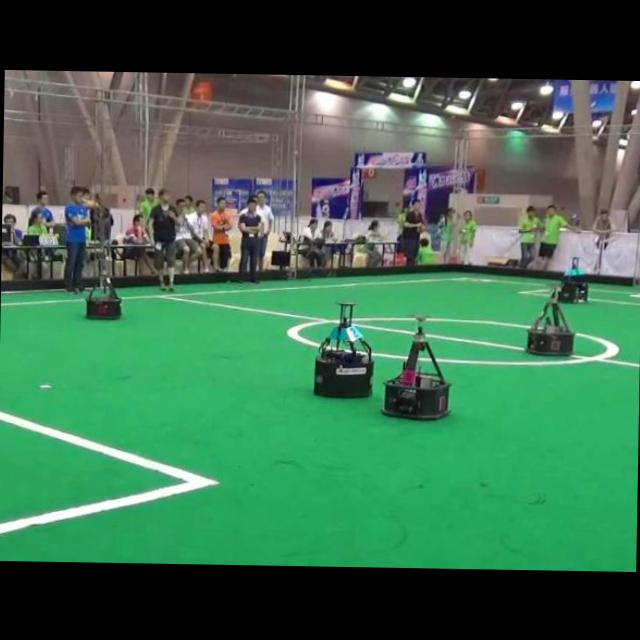robot: (382, 325, 447, 418), (314, 302, 373, 396), (525, 295, 573, 354), (85, 260, 122, 317), (558, 256, 588, 302)
